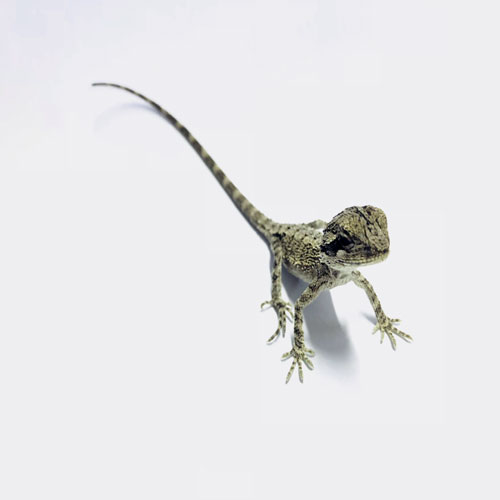bearded: (87, 78, 416, 388)
